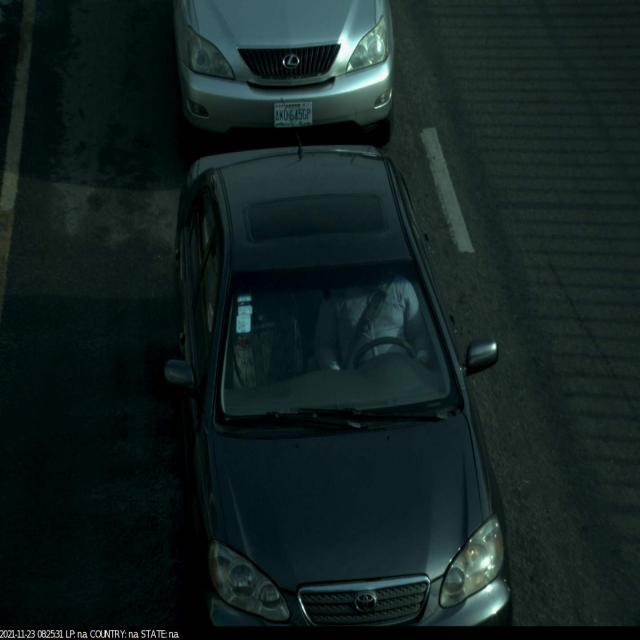windshield: (209, 256, 469, 438)
